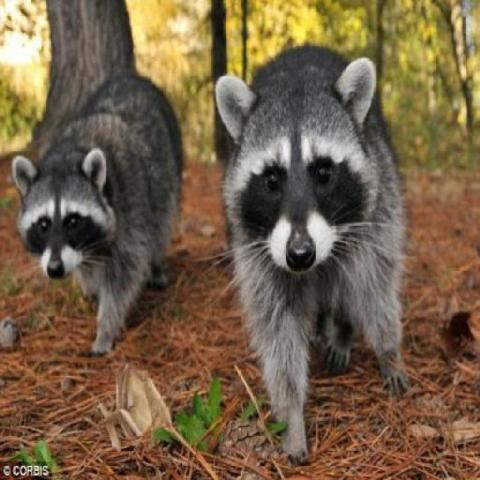small_animal: (212, 42, 412, 465), (9, 70, 186, 356)
